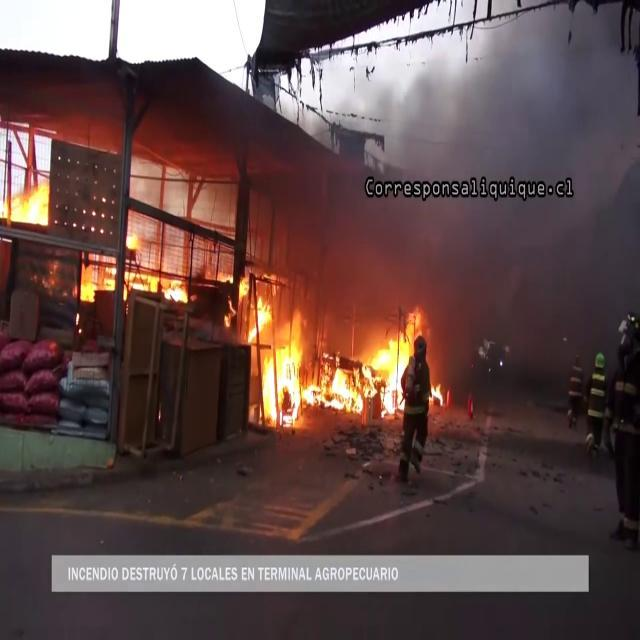Fire: (235, 274, 420, 424), (75, 224, 192, 308), (1, 173, 54, 230)
Smoke: (296, 4, 640, 330)
